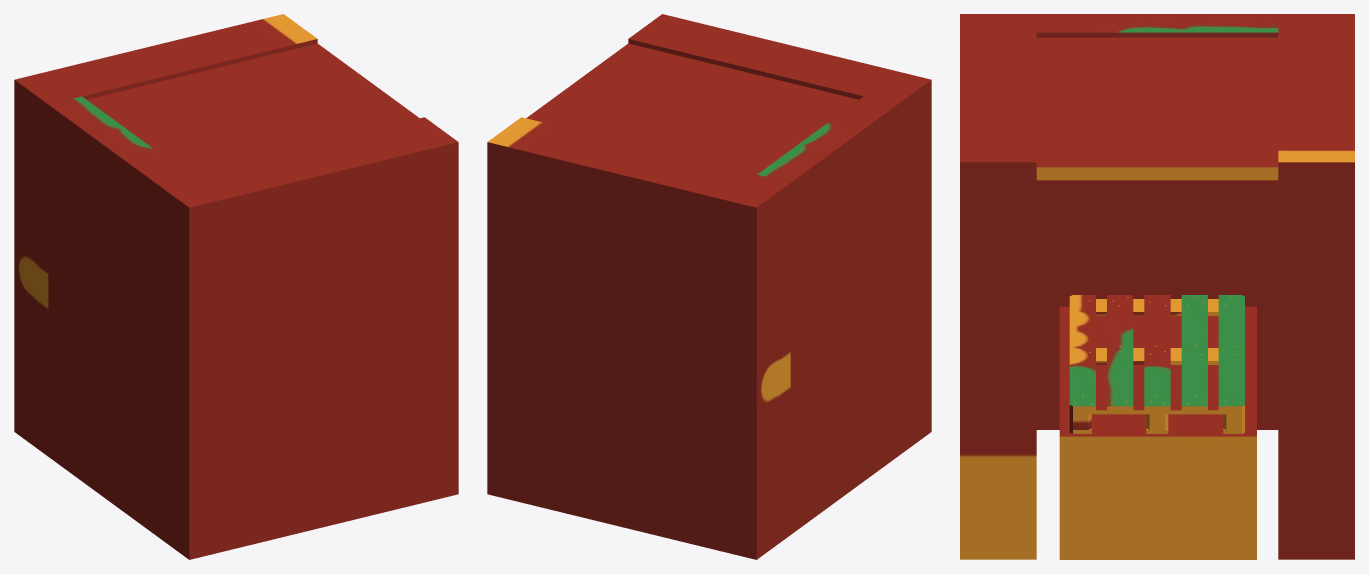
Rendered from usecase2_meshed_2strati.dae.
3 renders of one model, left to right at view 1: azimuth 30°, elevation 25°; view 2: azimuth 150°, elevation 25°; view 3: azimuth 270°, elevation 25°, orthographic. The views are drawn at different scales.
Visible parts, largest first — view 1: usecase2_meshed_2strati; view 2: usecase2_meshed_2strati; view 3: usecase2_meshed_2strati.
Boxes of the visible parts, x1,y1,x2,y2 form: usecase2_meshed_2strati: (14,14,458,559); usecase2_meshed_2strati: (487,14,931,559); usecase2_meshed_2strati: (960,14,1354,559).
Bounding box in the file's own units: 1.6 × 1.8 × 2.
